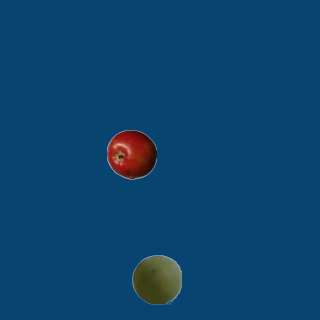Apple Braeburn: (106, 129, 156, 179)
Grape White 4: (131, 254, 181, 304)
